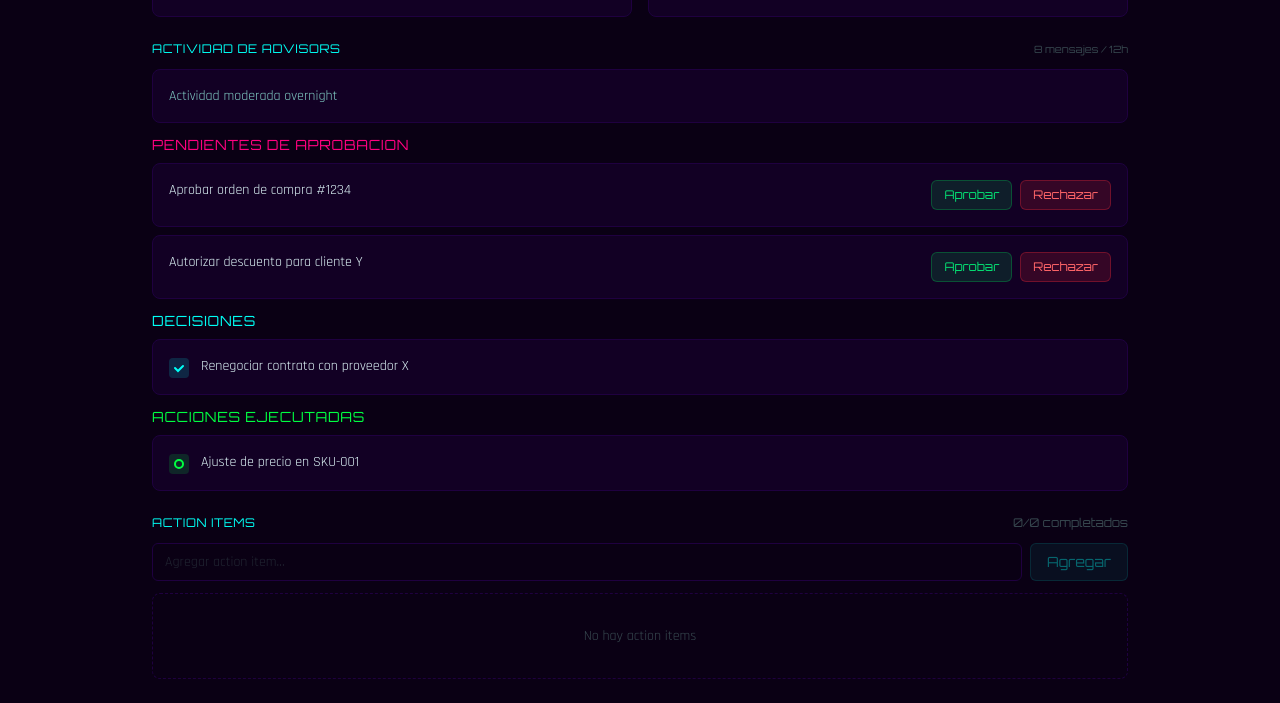
PulseDashboardPage › add item via Enter key
(page scrolled)
Expected: the element with test id "action-items" is shown, [152,515,1128,679]
Type "Enter task" into the field with test id "new-item-input" at x=587, y=562, box [152,543,1022,581]
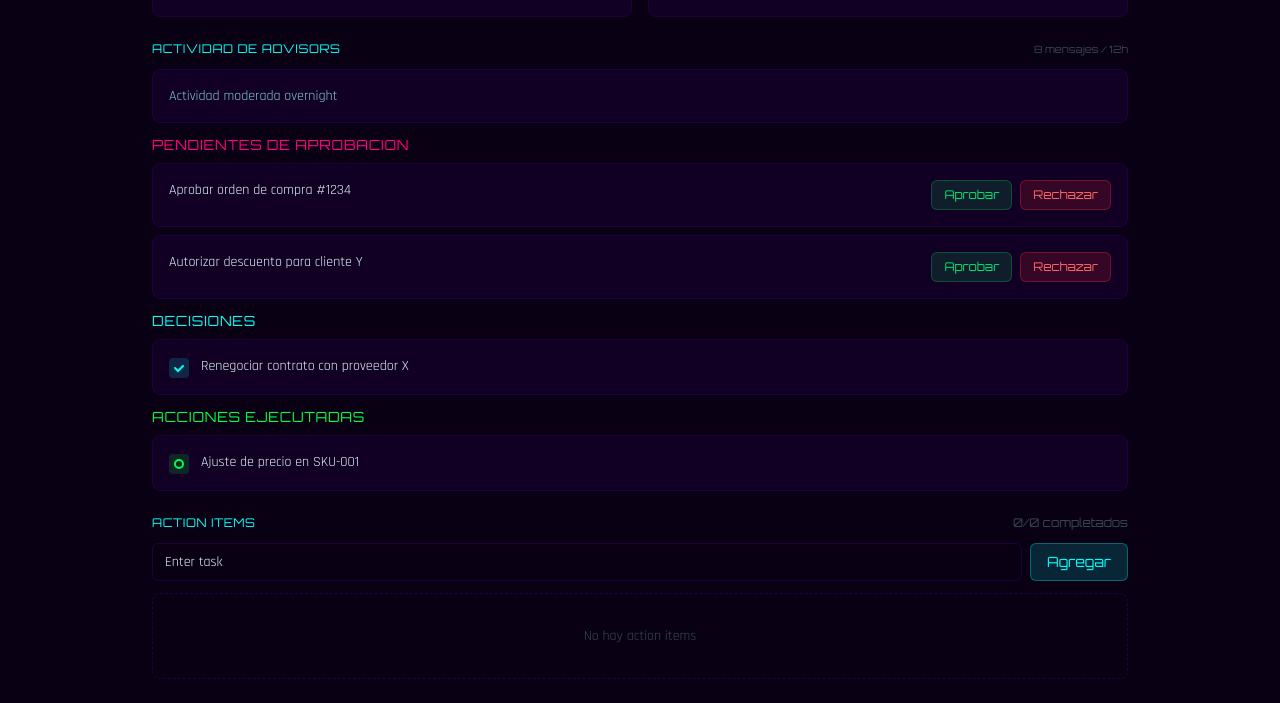
Press Enter in the field with test id "new-item-input", box [152,543,1022,581]
(page scrolled)
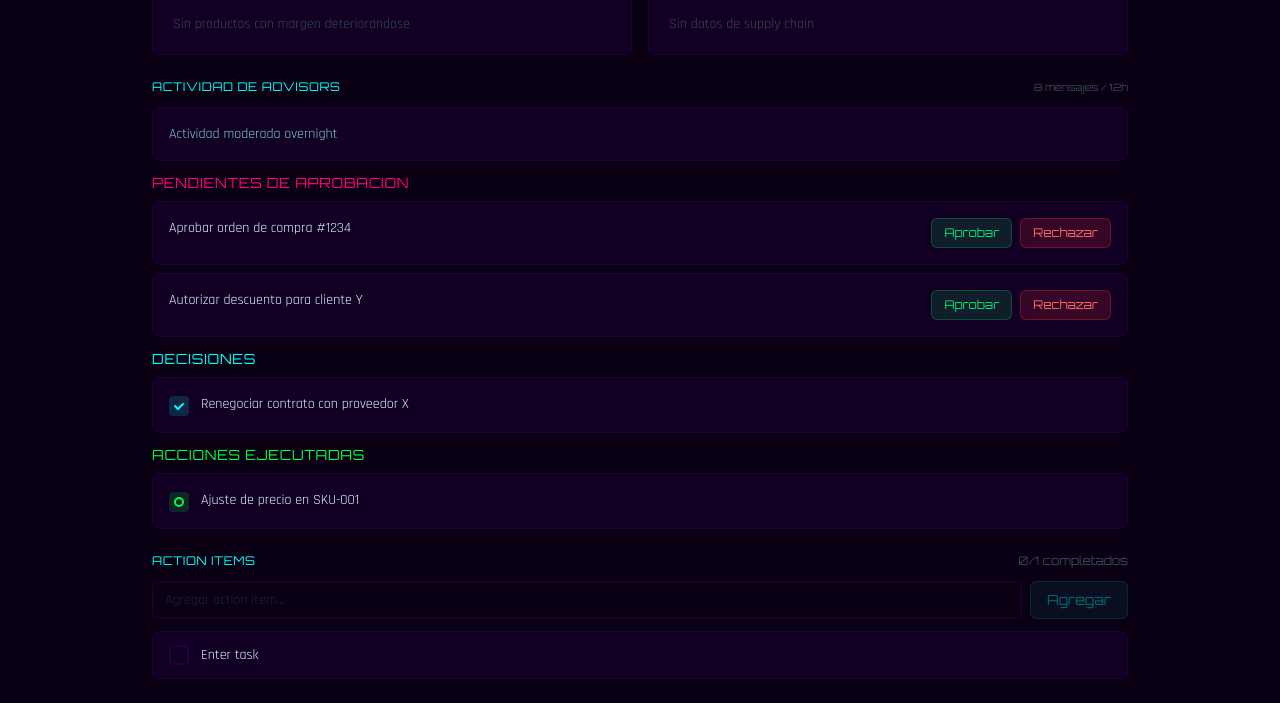
Result: the text "Enter task" is shown at [201,646,259,664]
